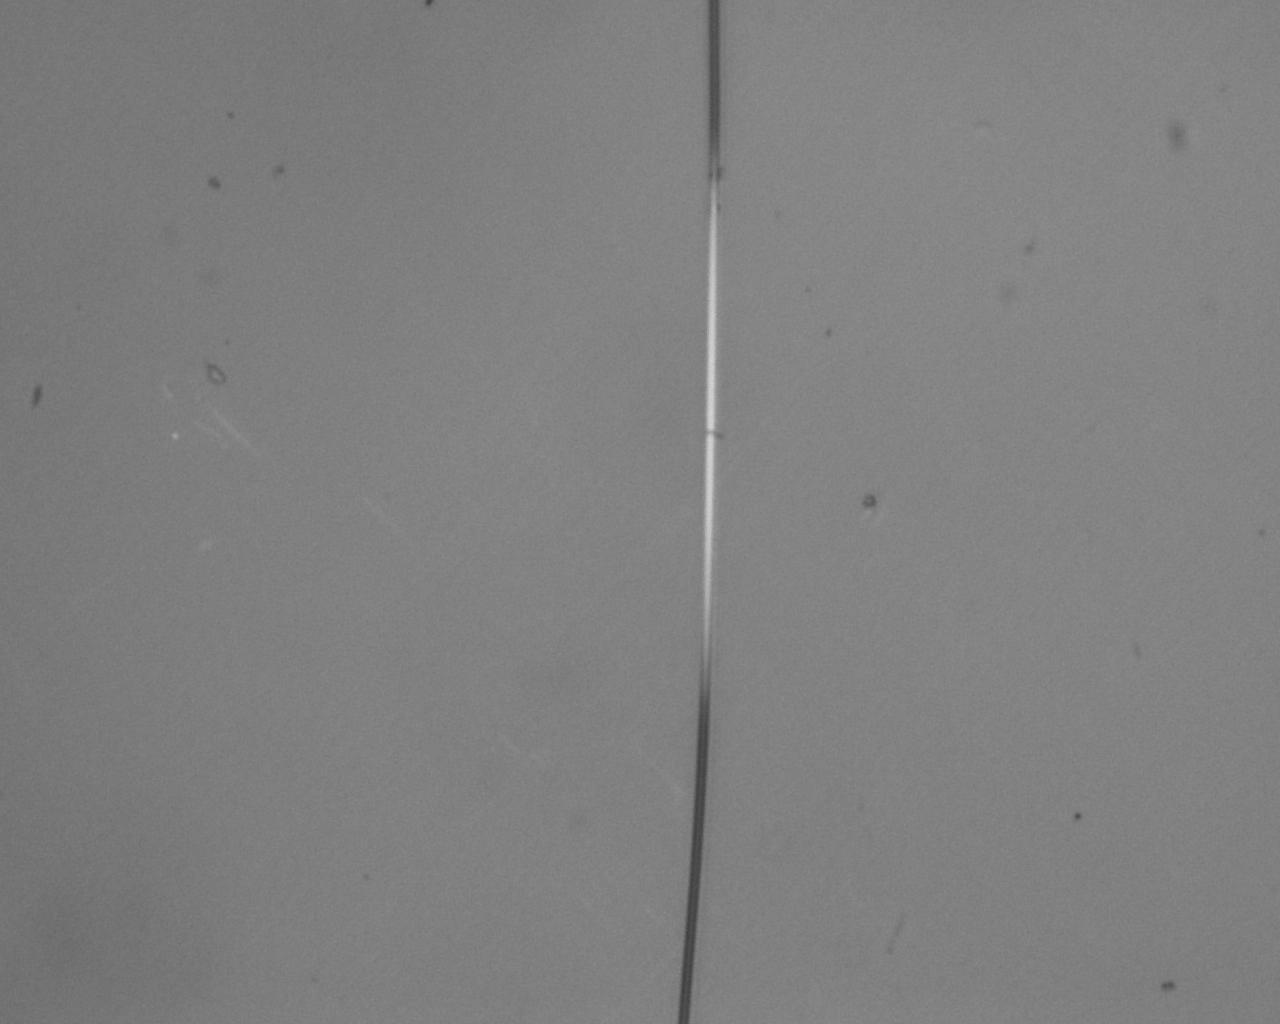fiber: (676, 0, 723, 1024)
